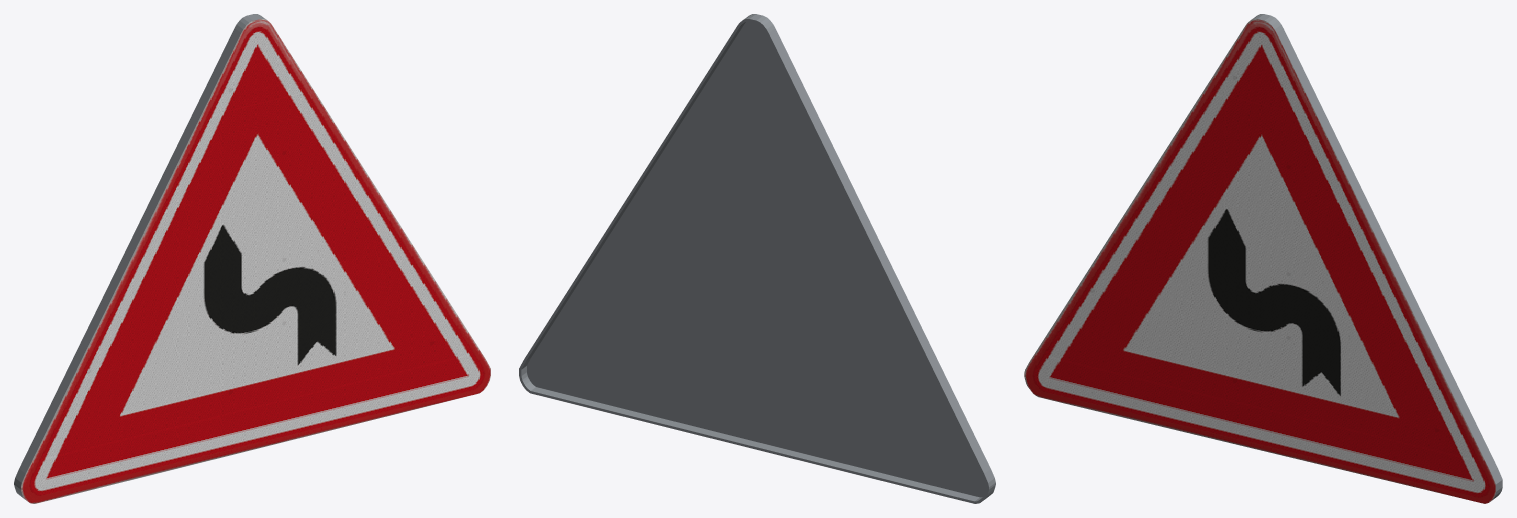
The picture shows the model from 3 angles, left to right: view 1: azimuth 30°, elevation 25°; view 2: azimuth 150°, elevation 25°; view 3: azimuth 330°, elevation 25°; orthographic projection.
Parts seen in each view (by area): view 1: cat_6186d81973c25edd; view 2: cat_6186d81973c25edd; view 3: cat_6186d81973c25edd.
Boxes of the visible parts, x1,y1,x2,y2 form: cat_6186d81973c25edd: (14,14,490,503); cat_6186d81973c25edd: (519,14,995,503); cat_6186d81973c25edd: (1024,14,1502,503).
Bounding box in the file's own units: 0.6 × 0.015 × 0.5245.
Materials: 2 (1 with a texture image).
